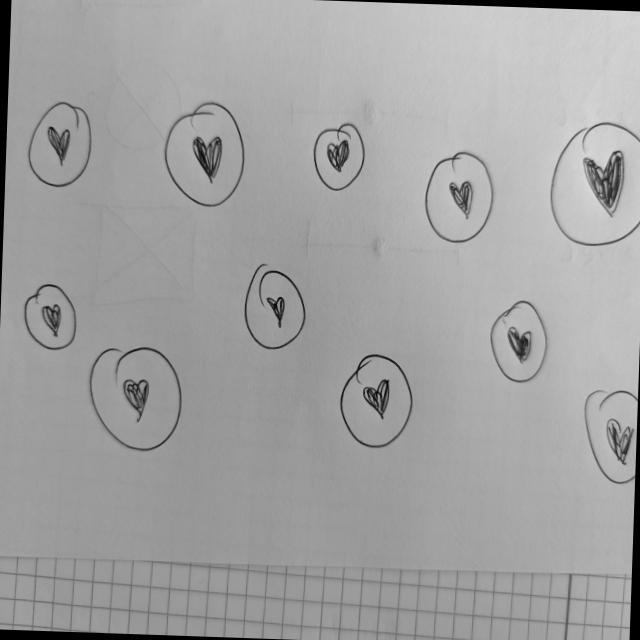icon-button: (546, 118, 640, 249), (87, 342, 186, 455), (164, 95, 250, 214), (337, 348, 417, 454), (420, 147, 500, 248), (24, 98, 96, 193), (240, 263, 312, 354), (581, 385, 639, 487), (489, 295, 552, 388), (21, 281, 82, 353), (310, 121, 368, 196)
